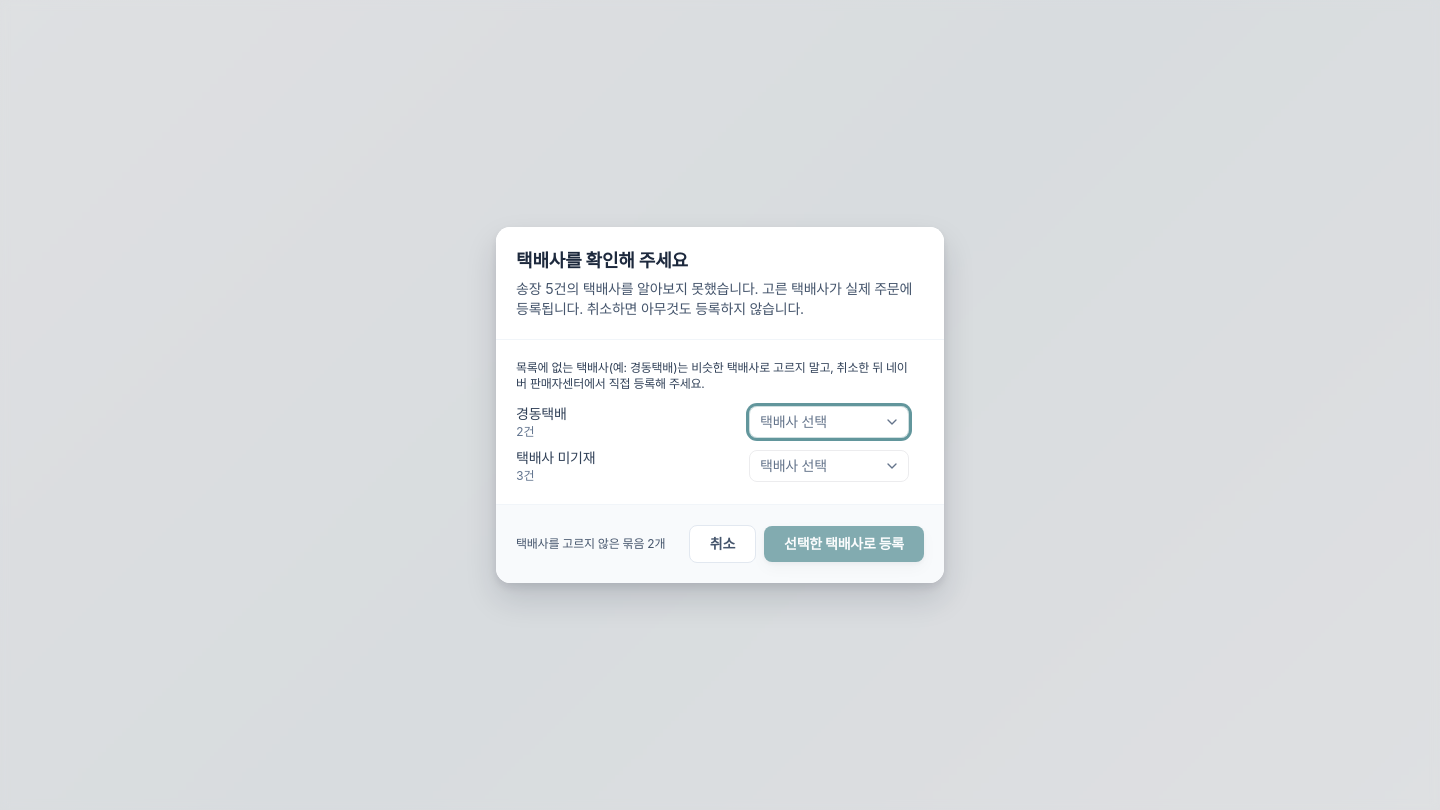
CourierChoiceDialog › 남은 묶음 수를 알리고, 등록 버튼이 그 안내를 설명으로 가리킨다
Expected: the message reads "택배사를 고르지 않은 묶음 2개", [516,536,665,551]
Click the dropdown named "경동택배 택배사 선택": {"x": 829, "y": 422} [749,406,909,438]
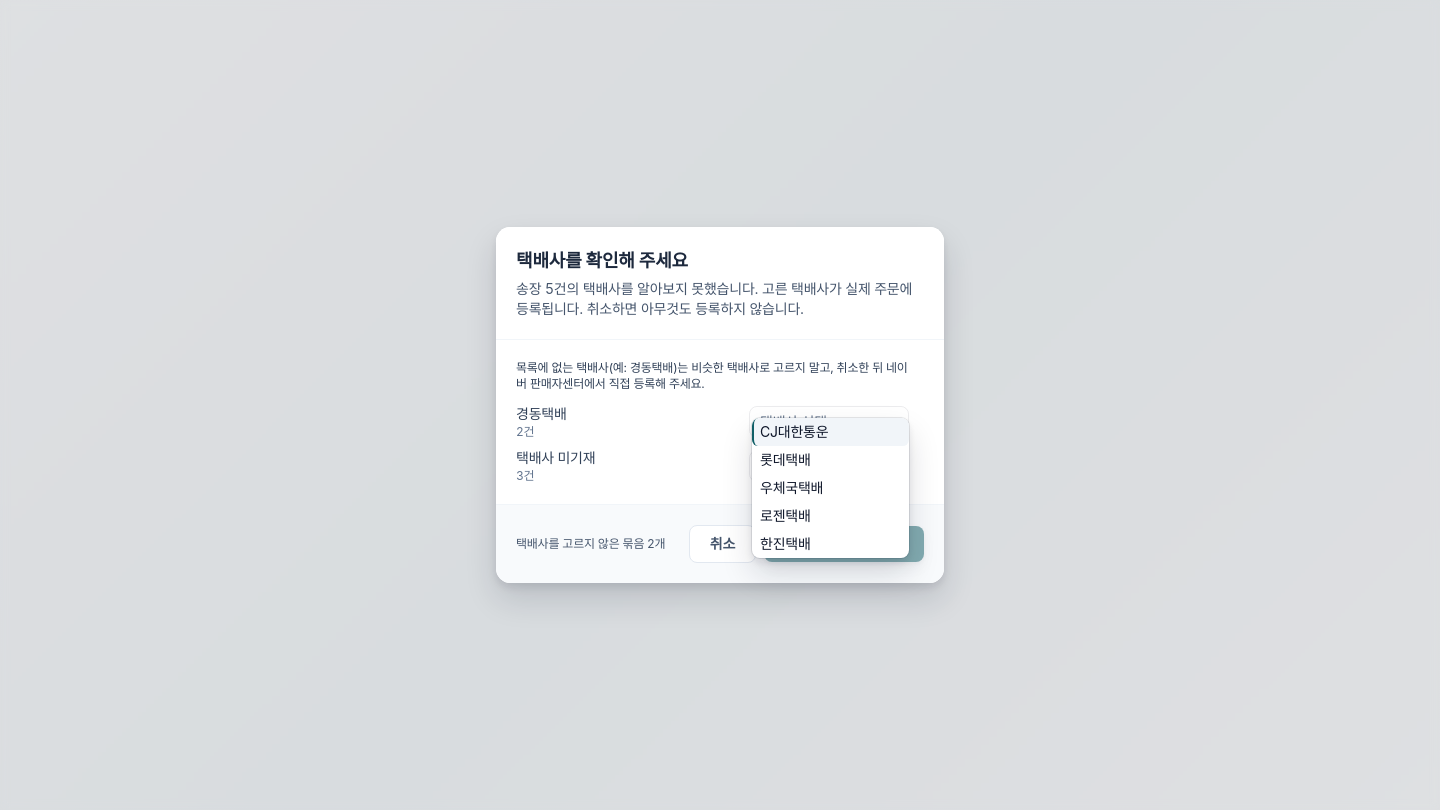
Click the option "한진택배": {"x": 785, "y": 544} [760,535,811,552]
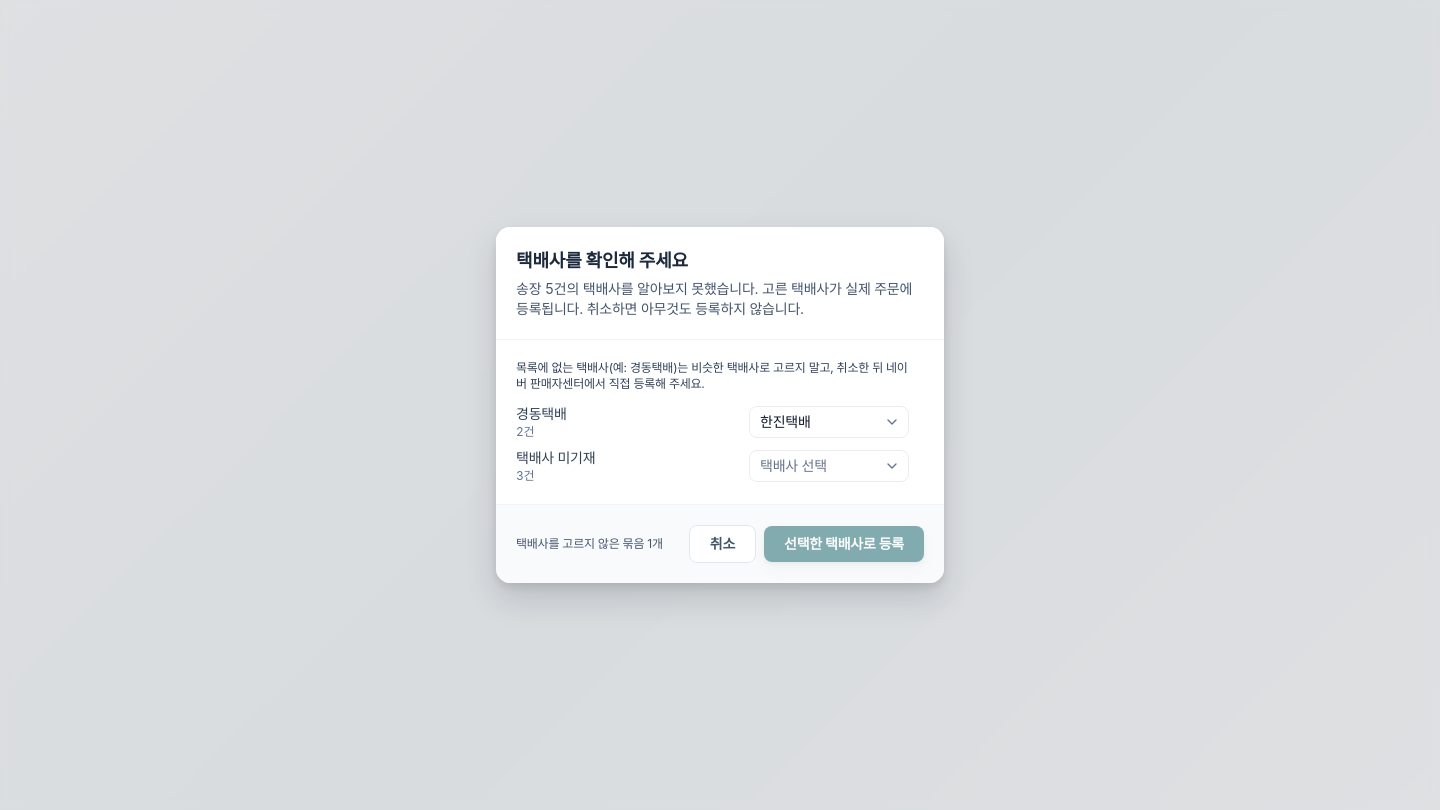
Expected: the message reads "택배사를 고르지 않은 묶음 1개", [516,536,663,551]
Click the dropdown labelled "택배사 선택": {"x": 829, "y": 466} [749,450,909,482]
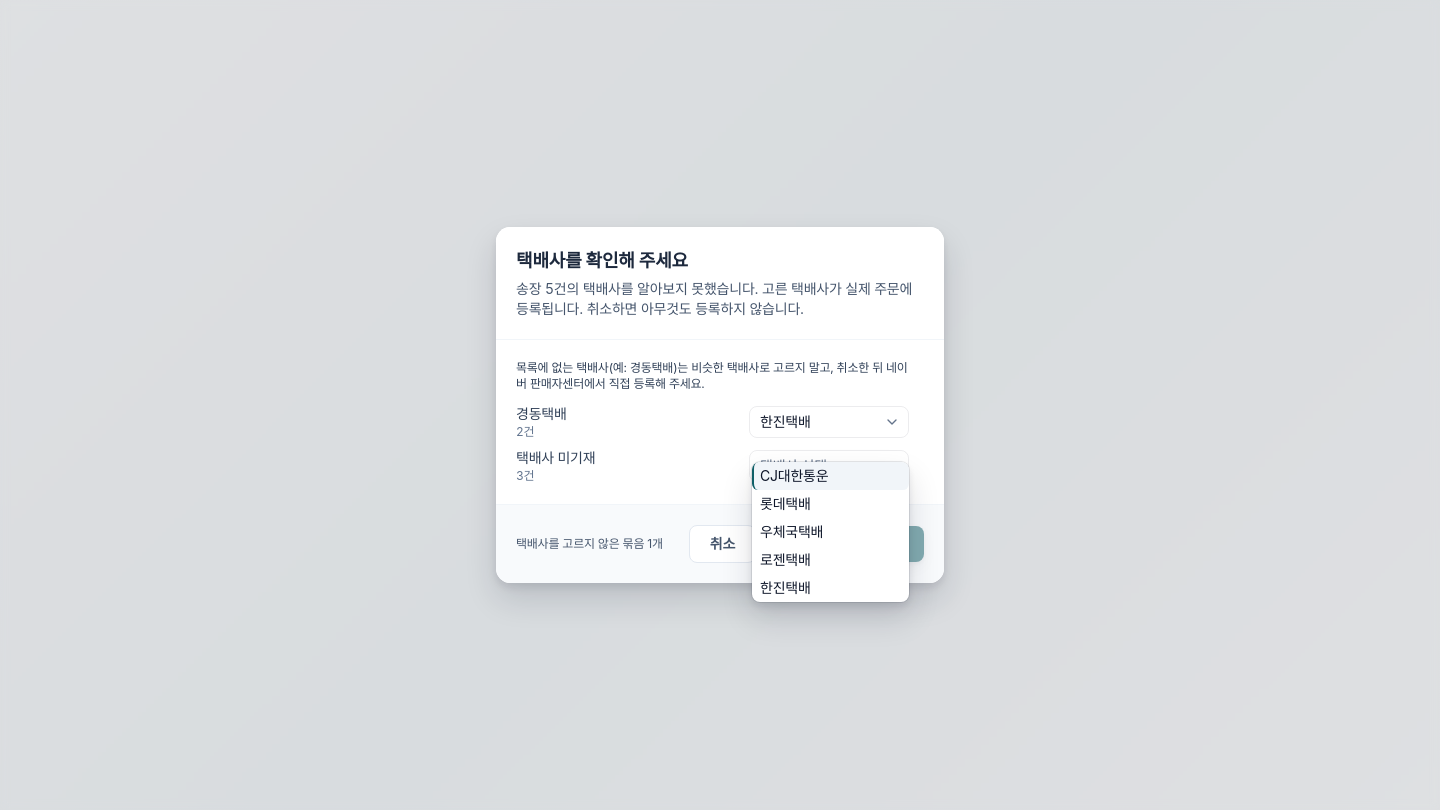
Click the option "우체국택배": {"x": 792, "y": 532} [760,523,823,540]
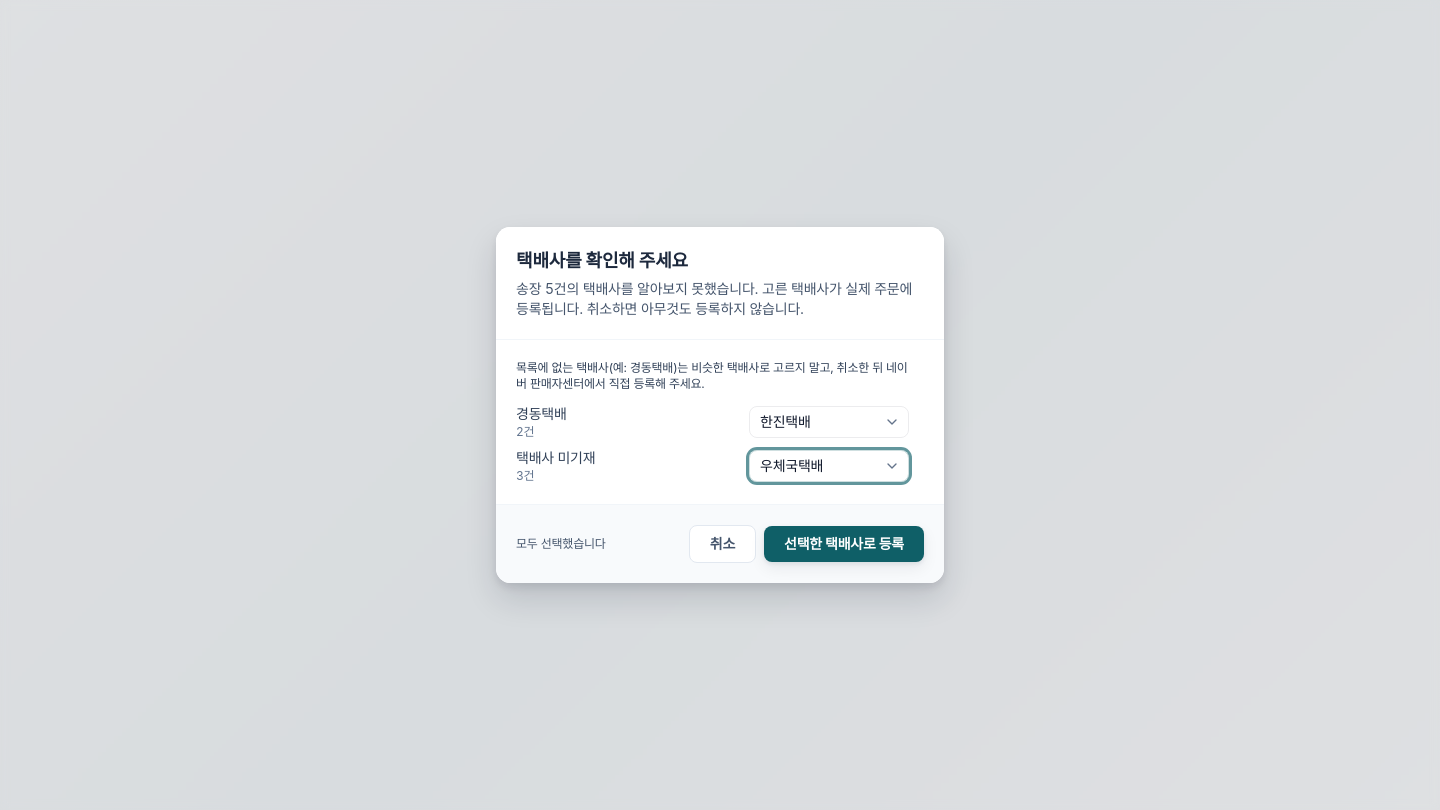
Expected: the message reads "모두 선택했습니다", [516,536,606,551]
